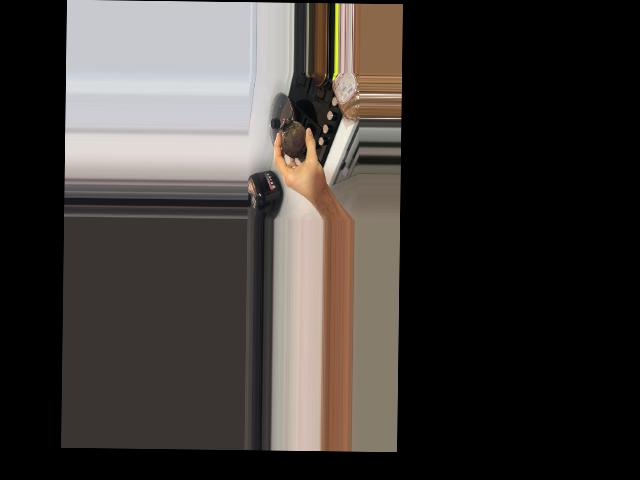beet: (280, 117, 306, 160)
